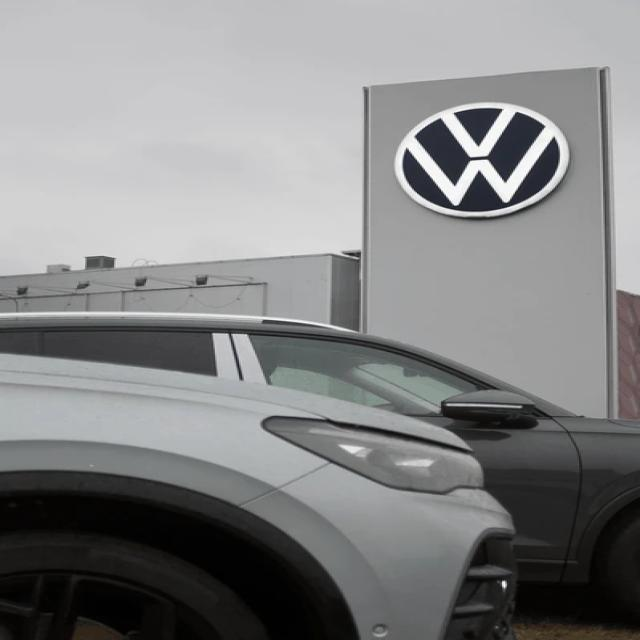wolksvogen: (400, 98, 582, 235)
